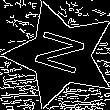N_E: (29, 28, 93, 82)
